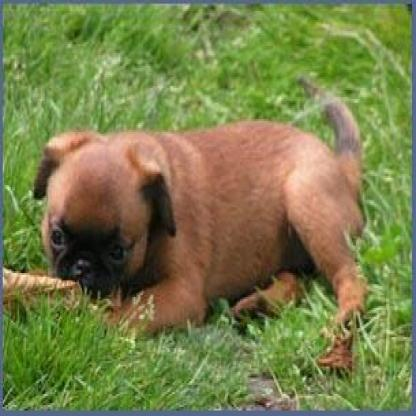Brabancon_griffon: (28, 77, 366, 376)
